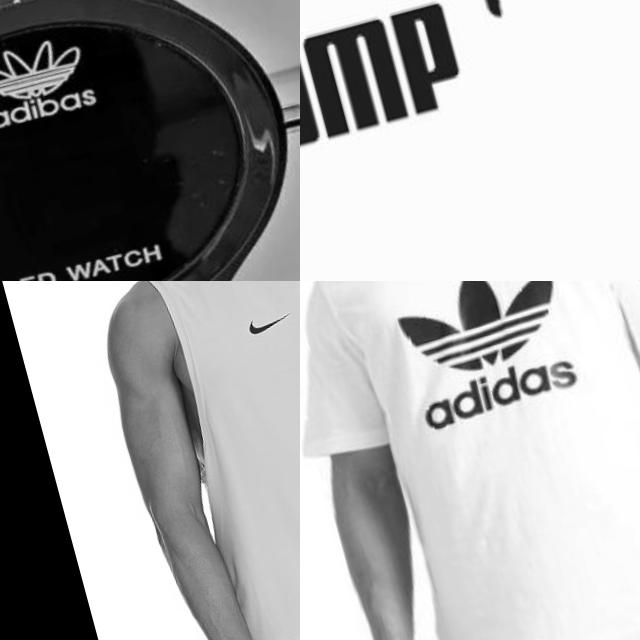ADIDAS_fake: (0, 6, 127, 149)
ADIDAS_original: (359, 281, 614, 457), (375, 281, 591, 396), (406, 336, 602, 457)
NIKE_original: (228, 292, 300, 350)
PUMA_fake: (300, 0, 551, 189)
